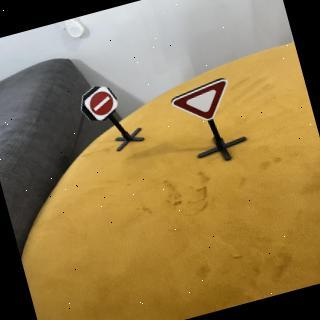sign_noentry: (81, 83, 124, 125)
sign_yield: (168, 77, 239, 131)
